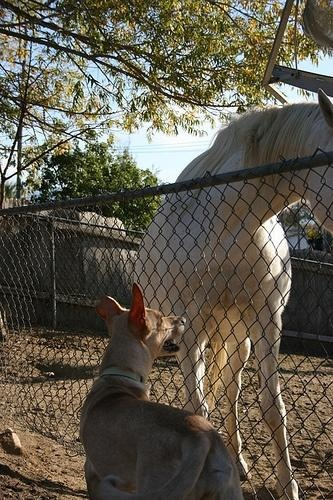dog: (81, 284, 245, 500)
horse: (137, 102, 333, 500)
